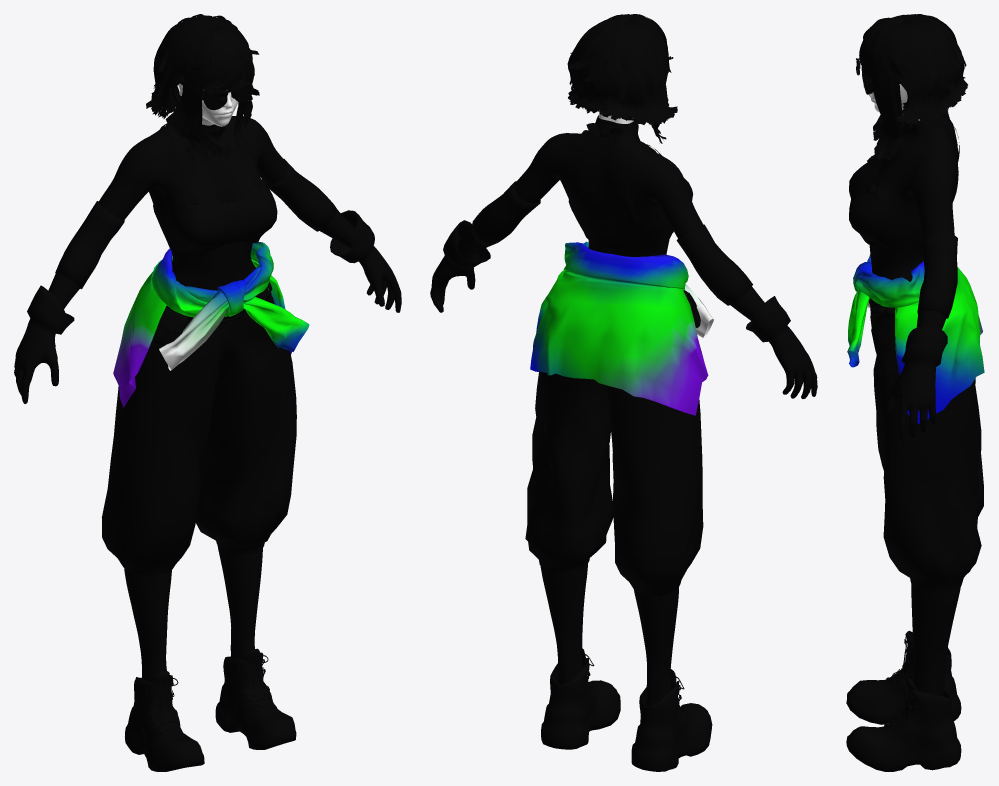
The model's file is SK_MechanicGirl_02.obj.
The picture shows the model from 3 angles, left to right: view 1: azimuth 30°, elevation 25°; view 2: azimuth 150°, elevation 25°; view 3: azimuth 270°, elevation 25°; orthographic projection.
Visible parts, largest first — view 1: SK_MECHANICGIRL_PANTS, SK_MECHANICGIRL_BODY_CUT, SK_MECHANICGIRL_SHIRT, SK_MECHANICGIRL_SHOES, SK_MECHANICGIRL_HAIR_SHORT, SK_MECHANICGIRL_GLOVES, SK_MECHANICGIRL_TOP, SK_MECHANICGIRL_ELBOWS, SK_MECHANICGIRL_BELT, SK_MECHANICGIRL_GLASSES_DOWN, SK_MECHANICGIRL_HEAD, SK_MECHANICGIRL_SCARF; view 2: SK_MECHANICGIRL_PANTS, SK_MECHANICGIRL_SHIRT, SK_MECHANICGIRL_BODY_CUT, SK_MECHANICGIRL_SHOES, SK_MECHANICGIRL_HAIR_SHORT, SK_MECHANICGIRL_GLOVES, SK_MECHANICGIRL_ELBOWS, SK_MECHANICGIRL_TOP; view 3: SK_MECHANICGIRL_PANTS, SK_MECHANICGIRL_BODY_CUT, SK_MECHANICGIRL_HAIR_SHORT, SK_MECHANICGIRL_SHOES, SK_MECHANICGIRL_SHIRT, SK_MECHANICGIRL_GLOVES, SK_MECHANICGIRL_TOP, SK_MECHANICGIRL_ELBOWS, SK_MECHANICGIRL_SCARF, SK_MECHANICGIRL_BELT, SK_MECHANICGIRL_GLASSES_DOWN.
Part boxes in pixels (left/top/right/bottom): SK_MECHANICGIRL_PANTS: left=101, top=265, right=296, bottom=575; SK_MECHANICGIRL_BODY_CUT: left=48, top=116, right=355, bottom=680; SK_MECHANICGIRL_SHIRT: left=113, top=241, right=309, bottom=407; SK_MECHANICGIRL_SHOES: left=125, top=648, right=296, bottom=771; SK_MECHANICGIRL_HAIR_SHORT: left=146, top=14, right=259, bottom=163; SK_MECHANICGIRL_GLOVES: left=14, top=210, right=401, bottom=403; SK_MECHANICGIRL_TOP: left=153, top=121, right=277, bottom=256; SK_MECHANICGIRL_ELBOWS: left=55, top=158, right=337, bottom=289; SK_MECHANICGIRL_BELT: left=153, top=282, right=272, bottom=346; SK_MECHANICGIRL_GLASSES_DOWN: left=180, top=79, right=253, bottom=110; SK_MECHANICGIRL_HEAD: left=177, top=83, right=238, bottom=126; SK_MECHANICGIRL_SCARF: left=202, top=126, right=230, bottom=168; SK_MECHANICGIRL_PANTS: left=525, top=371, right=703, bottom=596; SK_MECHANICGIRL_SHIRT: left=530, top=241, right=713, bottom=415; SK_MECHANICGIRL_BODY_CUT: left=457, top=118, right=764, bottom=706; SK_MECHANICGIRL_SHOES: left=541, top=648, right=712, bottom=771; SK_MECHANICGIRL_HAIR_SHORT: left=567, top=14, right=677, bottom=143; SK_MECHANICGIRL_GLOVES: left=430, top=220, right=817, bottom=398; SK_MECHANICGIRL_ELBOWS: left=471, top=181, right=752, bottom=305; SK_MECHANICGIRL_TOP: left=568, top=130, right=692, bottom=251; SK_MECHANICGIRL_PANTS: left=870, top=313, right=983, bottom=592; SK_MECHANICGIRL_BODY_CUT: left=861, top=115, right=960, bottom=696; SK_MECHANICGIRL_HAIR_SHORT: left=859, top=14, right=967, bottom=160; SK_MECHANICGIRL_SHOES: left=846, top=630, right=961, bottom=771; SK_MECHANICGIRL_SHIRT: left=847, top=254, right=984, bottom=423; SK_MECHANICGIRL_GLOVES: left=885, top=327, right=947, bottom=441; SK_MECHANICGIRL_TOP: left=849, top=120, right=959, bottom=253; SK_MECHANICGIRL_ELBOWS: left=917, top=234, right=957, bottom=318; SK_MECHANICGIRL_SCARF: left=883, top=111, right=949, bottom=158; SK_MECHANICGIRL_BELT: left=868, top=298, right=895, bottom=317; SK_MECHANICGIRL_GLASSES_DOWN: left=856, top=58, right=898, bottom=94.
Size of the model in its own units: 98.33 by 179 by 31.14.
